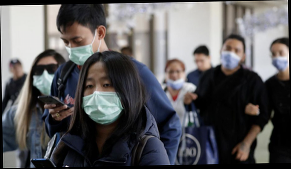mask_weared_incorrect: (164, 67, 185, 90)
with_mask: (80, 71, 125, 126), (32, 59, 62, 96), (220, 42, 244, 68), (270, 47, 289, 71)
without_mask: (193, 54, 210, 71)
